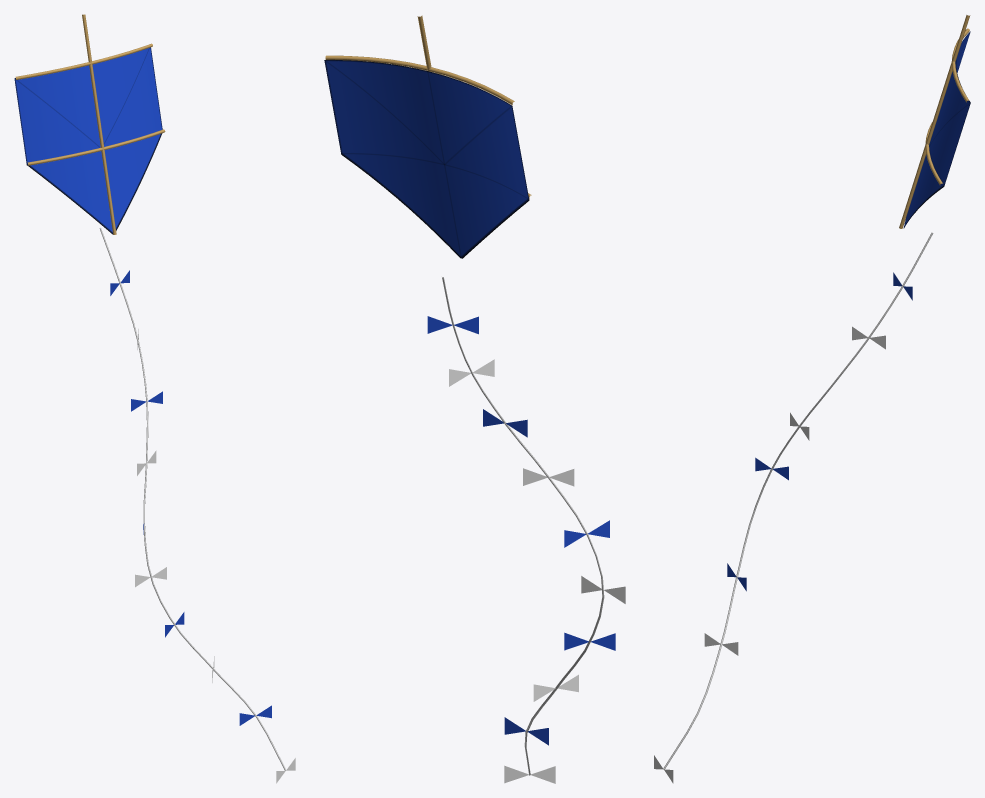
The model's file is quadrada-1-azul-lisa.glb.
3 views of the same model, side by side, from view 1: azimuth 30°, elevation 25°; view 2: azimuth 150°, elevation 25°; view 3: azimuth 270°, elevation 25° (orthographic). The views are drawn at different scales.
Parts seen in each view (by area): view 1: quadrada-1-azul-lisa; view 2: quadrada-1-azul-lisa; view 3: quadrada-1-azul-lisa.
Part boxes in pixels (x1,y1,x2,y2): quadrada-1-azul-lisa: (14,14,295,783); quadrada-1-azul-lisa: (324,15,625,783); quadrada-1-azul-lisa: (654,15,970,783).
Size of the model in its own units: 1.16 by 5.21 by 2.05.
5 materials, 1 textured.
